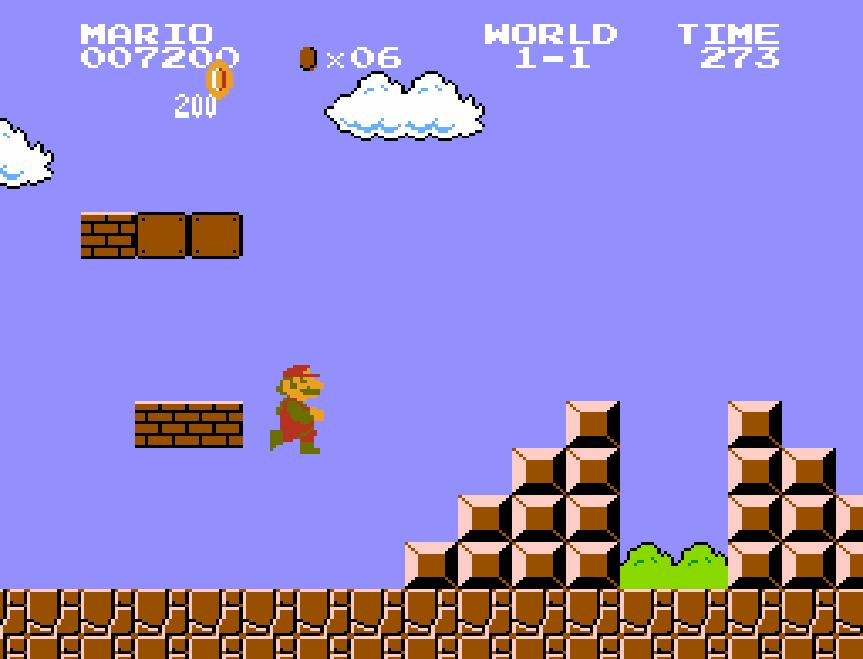big_mario: (267, 357, 325, 456)
